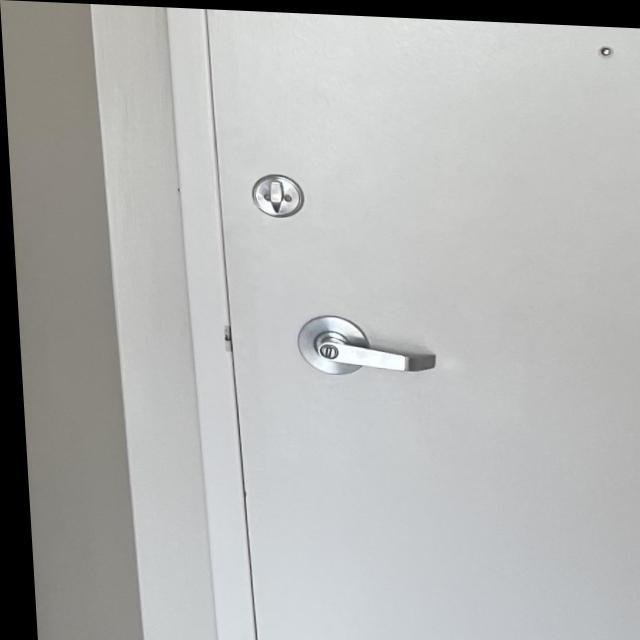door_handle: (290, 322, 452, 383)
